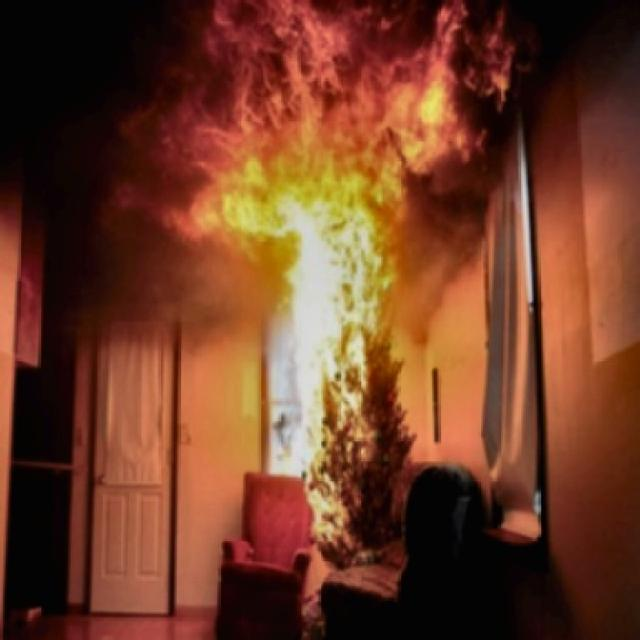fire: (88, 1, 524, 554)
